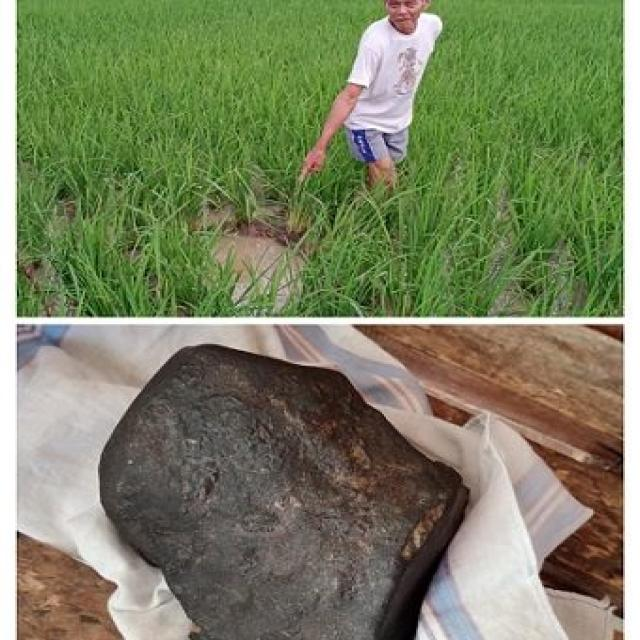Pecahan Agregat: (100, 342, 553, 640)
